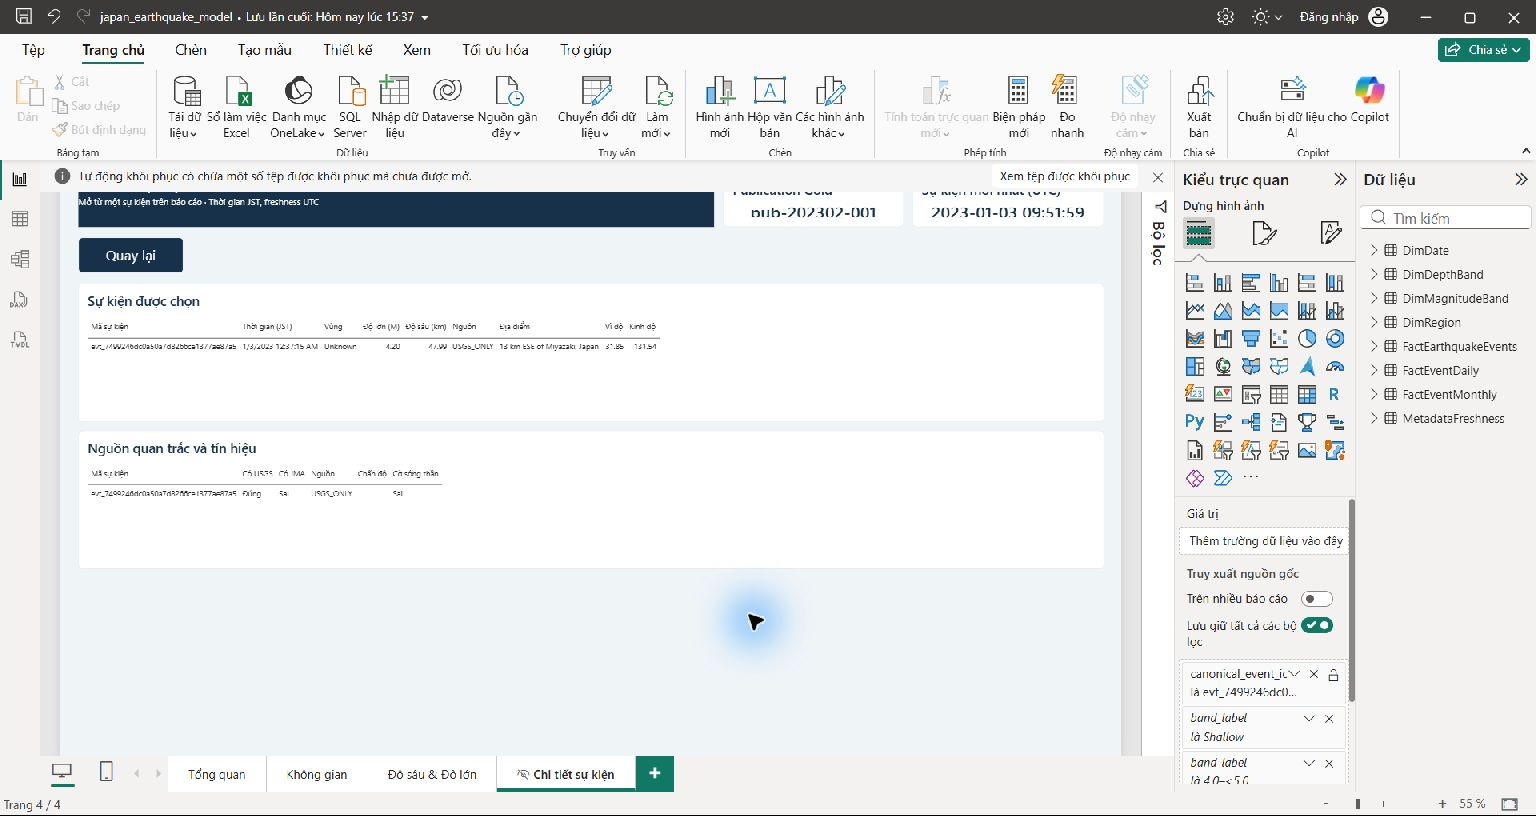

This screenshot's page, from the dashboard's own definition file:
{"tool":"powerbi","page":{"name":"Chi tiết sự kiện","canvas":[1920,1080],"ordinal":3},"visuals":[{"type":"textbox","box":[32,24,1150,98],"z":1000},{"type":"card","title":"Publication Gold","fields":{"Values":["MetadataFreshness.Gold Publication"]},"box":[1200,24,326,98],"z":2000},{"type":"card","title":"Sự kiện mới nhất (UTC)","fields":{"Values":["MetadataFreshness.Data Freshness (UTC)"]},"box":[1542,24,346,98],"z":3000},{"type":"actionButton","box":[32,141,190,64],"z":4000},{"type":"tableEx","title":"Sự kiện được chọn","fields":{"Values":["FactEarthquakeEvents.canonical_event_id","FactEarthquakeEvents.event_time_jst","FactEarthquakeEvents.region_name","FactEarthquakeEvents.magnitude","FactEarthquakeEvents.depth_km","FactEarthquakeEvents.source_coverage_code","FactEarthquakeEvents.place_name","FactEarthquakeEvents.latitude","FactEarthquakeEvents.longitude"]},"box":[32,225,1856,250],"z":5000},{"type":"tableEx","title":"Nguồn quan trắc và tín hiệu","fields":{"Values":["FactEarthquakeEvents.canonical_event_id","FactEarthquakeEvents.has_usgs","FactEarthquakeEvents.has_jma","FactEarthquakeEvents.source_coverage_code","FactEarthquakeEvents.max_intensity_code","FactEarthquakeEvents.tsunami_flag"]},"box":[32,490,1856,250],"z":6000}]}

Visuals, with their boxes on the page's 1920x1080 design canvas (x1, y1, x2, y2). These are canvas units, not pixel positions in the 1536x816 screenshot, which may show the page scaled, cropped or inside an application window:
textbox: x1=32, y1=24, x2=1182, y2=122
"Publication Gold" card: x1=1200, y1=24, x2=1526, y2=122
"Sự kiện mới nhất (UTC)" card: x1=1542, y1=24, x2=1888, y2=122
actionButton: x1=32, y1=141, x2=222, y2=205
"Sự kiện được chọn" tableEx: x1=32, y1=225, x2=1888, y2=475
"Nguồn quan trắc và tín hiệu" tableEx: x1=32, y1=490, x2=1888, y2=740
